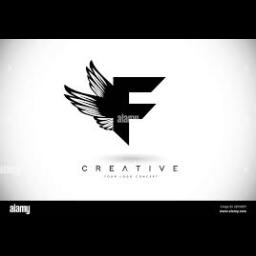f: (114, 68, 168, 144)
